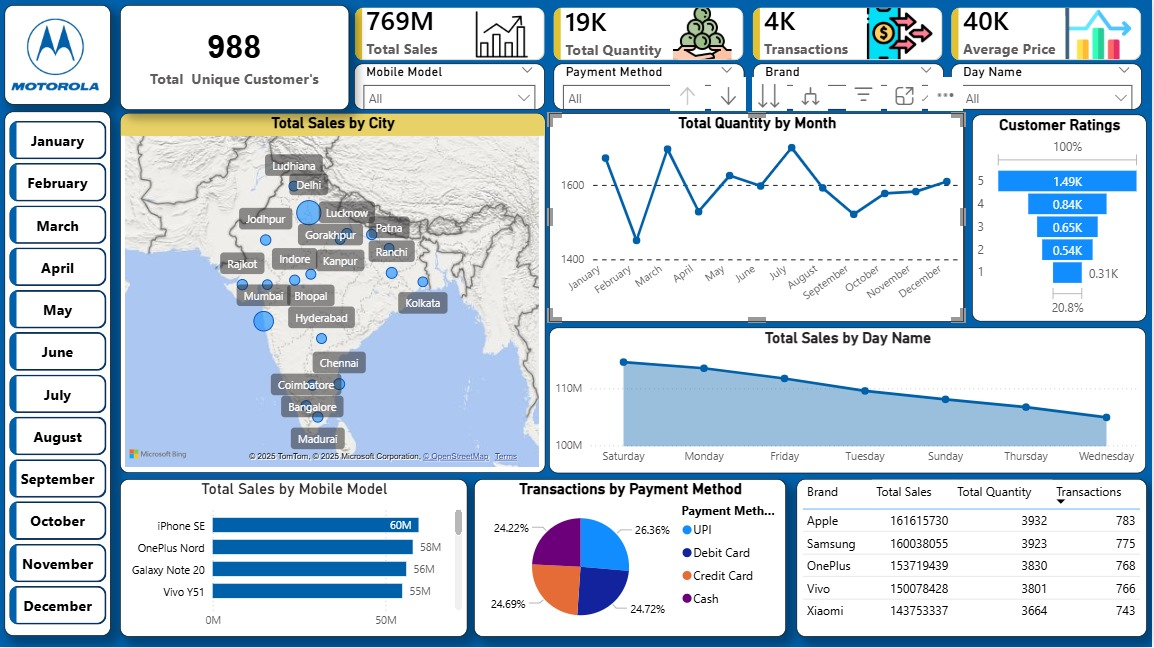

What the dashboard file says about the page in this screenshot:
{"tool":"powerbi","page":{"name":"Page 1","canvas":[1280,720],"ordinal":0},"visuals":[{"type":"textbox","box":[4.5,6.1,118.1,110.5],"z":0},{"type":"textbox","box":[4.5,125.7,118.1,583],"z":1000},{"type":"advancedSlicerVisual","fields":{"Values":["Sheet1 (2).Date.Variation.Date Hierarchy.Month"]},"box":[4.5,130.2,118.1,573.9],"z":2000},{"type":"cardVisual","fields":{"Data":["Mobiles_Sales_Data.Total Sales","Mobiles_Sales_Data.Total Quantity","Mobiles_Sales_Data.Transactions","Mobiles_Sales_Data.Average Price"]},"box":[384.6,0,894.9,77.2],"z":3000},{"type":"map","fields":{"Category":["Mobiles_Sales_Data.City"],"Size":["Mobiles_Sales_Data.Total Sales"]},"box":[133.3,127.2,472.4,399.8],"z":4000},{"type":"lineChart","fields":{"Y":["Mobiles_Sales_Data.Total Quantity"],"Category":["Mobiles_Sales_Data.Date.Variation.Date Hierarchy.Month","Mobiles_Sales_Data.Date.Variation.Date Hierarchy.Day"]},"box":[610.2,127.2,461.8,231.7],"z":5000},{"type":"clusteredBarChart","fields":{"Category":["Mobiles_Sales_Data.Mobile Model"],"Y":["Mobiles_Sales_Data.Total Sales"]},"box":[133.3,533,386.1,175.6],"z":6000},{"type":"pieChart","fields":{"Y":["Mobiles_Sales_Data.Transactions"],"Category":["Mobiles_Sales_Data.Payment Method"]},"box":[526.9,533,346.8,175.6],"z":7000},{"type":"funnel","title":" Customer Ratings ","fields":{"Y":["CountNonNull(Mobiles_Sales_Data.Customer Ratings)"],"Category":["Mobiles_Sales_Data.Customer Ratings"]},"box":[1079.6,128.7,193.8,230.2],"z":8000},{"type":"areaChart","fields":{"Category":["Mobiles_Sales_Data.Day Name"],"Y":["Mobiles_Sales_Data.Total Sales"]},"box":[610.2,364.9,663.2,162],"z":9000},{"type":"tableEx","fields":{"Values":["Mobiles_Sales_Data.Brand","Mobiles_Sales_Data.Total Sales","Mobiles_Sales_Data.Total Quantity","Mobiles_Sales_Data.Transactions"]},"box":[884.3,533,389.2,175.6],"z":10000},{"type":"slicer","fields":{"Values":["Mobiles_Sales_Data.Mobile Model"]},"box":[393.7,71.2,212,51.5],"z":11000},{"type":"slicer","fields":{"Values":["Mobiles_Sales_Data.Payment Method"]},"box":[614.8,71.2,212,51.5],"z":12000},{"type":"slicer","fields":{"Values":["Mobiles_Sales_Data.Brand"]},"box":[835.8,71.2,212,51.5],"z":13000},{"type":"slicer","fields":{"Values":["Mobiles_Sales_Data.Day Name"]},"box":[1056.9,71.2,212,51.5],"z":14000},{"type":"card","fields":{"Values":["Count(Mobiles_Sales_Data.Customer Name)"]},"box":[133.3,6.1,254.4,116.6],"z":15000},{"type":"image","box":[0,13.6,122.7,96.9],"z":16000}]}

Visuals, with their boxes in screenshot pixels (x1, y1, x2, y2), scaled from the page's 1280x720 canvas onto the 1154x648 screenshot:
textbox: region(4, 5, 111, 105)
textbox: region(4, 113, 111, 638)
advancedSlicerVisual - Sheet1 (2).Date.Variation.Date Hierarchy.Month: region(4, 117, 111, 634)
cardVisual - Mobiles_Sales_Data.Total Sales x Mobiles_Sales_Data.Total Quantity: region(347, 0, 1153, 69)
map - Mobiles_Sales_Data.City x Mobiles_Sales_Data.Total Sales: region(120, 114, 546, 474)
lineChart - Mobiles_Sales_Data.Total Quantity x Mobiles_Sales_Data.Date.Variation.Date Hierarchy.Month: region(550, 114, 966, 323)
clusteredBarChart - Mobiles_Sales_Data.Mobile Model x Mobiles_Sales_Data.Total Sales: region(120, 480, 468, 638)
pieChart - Mobiles_Sales_Data.Transactions x Mobiles_Sales_Data.Payment Method: region(475, 480, 788, 638)
" Customer Ratings " funnel: region(973, 116, 1148, 323)
areaChart - Mobiles_Sales_Data.Day Name x Mobiles_Sales_Data.Total Sales: region(550, 328, 1148, 474)
tableEx - Mobiles_Sales_Data.Brand x Mobiles_Sales_Data.Total Sales: region(797, 480, 1148, 638)
slicer - Mobiles_Sales_Data.Mobile Model: region(355, 64, 546, 110)
slicer - Mobiles_Sales_Data.Payment Method: region(554, 64, 745, 110)
slicer - Mobiles_Sales_Data.Brand: region(754, 64, 945, 110)
slicer - Mobiles_Sales_Data.Day Name: region(953, 64, 1144, 110)
card - Count(Mobiles_Sales_Data.Customer Name): region(120, 5, 350, 110)
image: region(0, 12, 111, 99)
